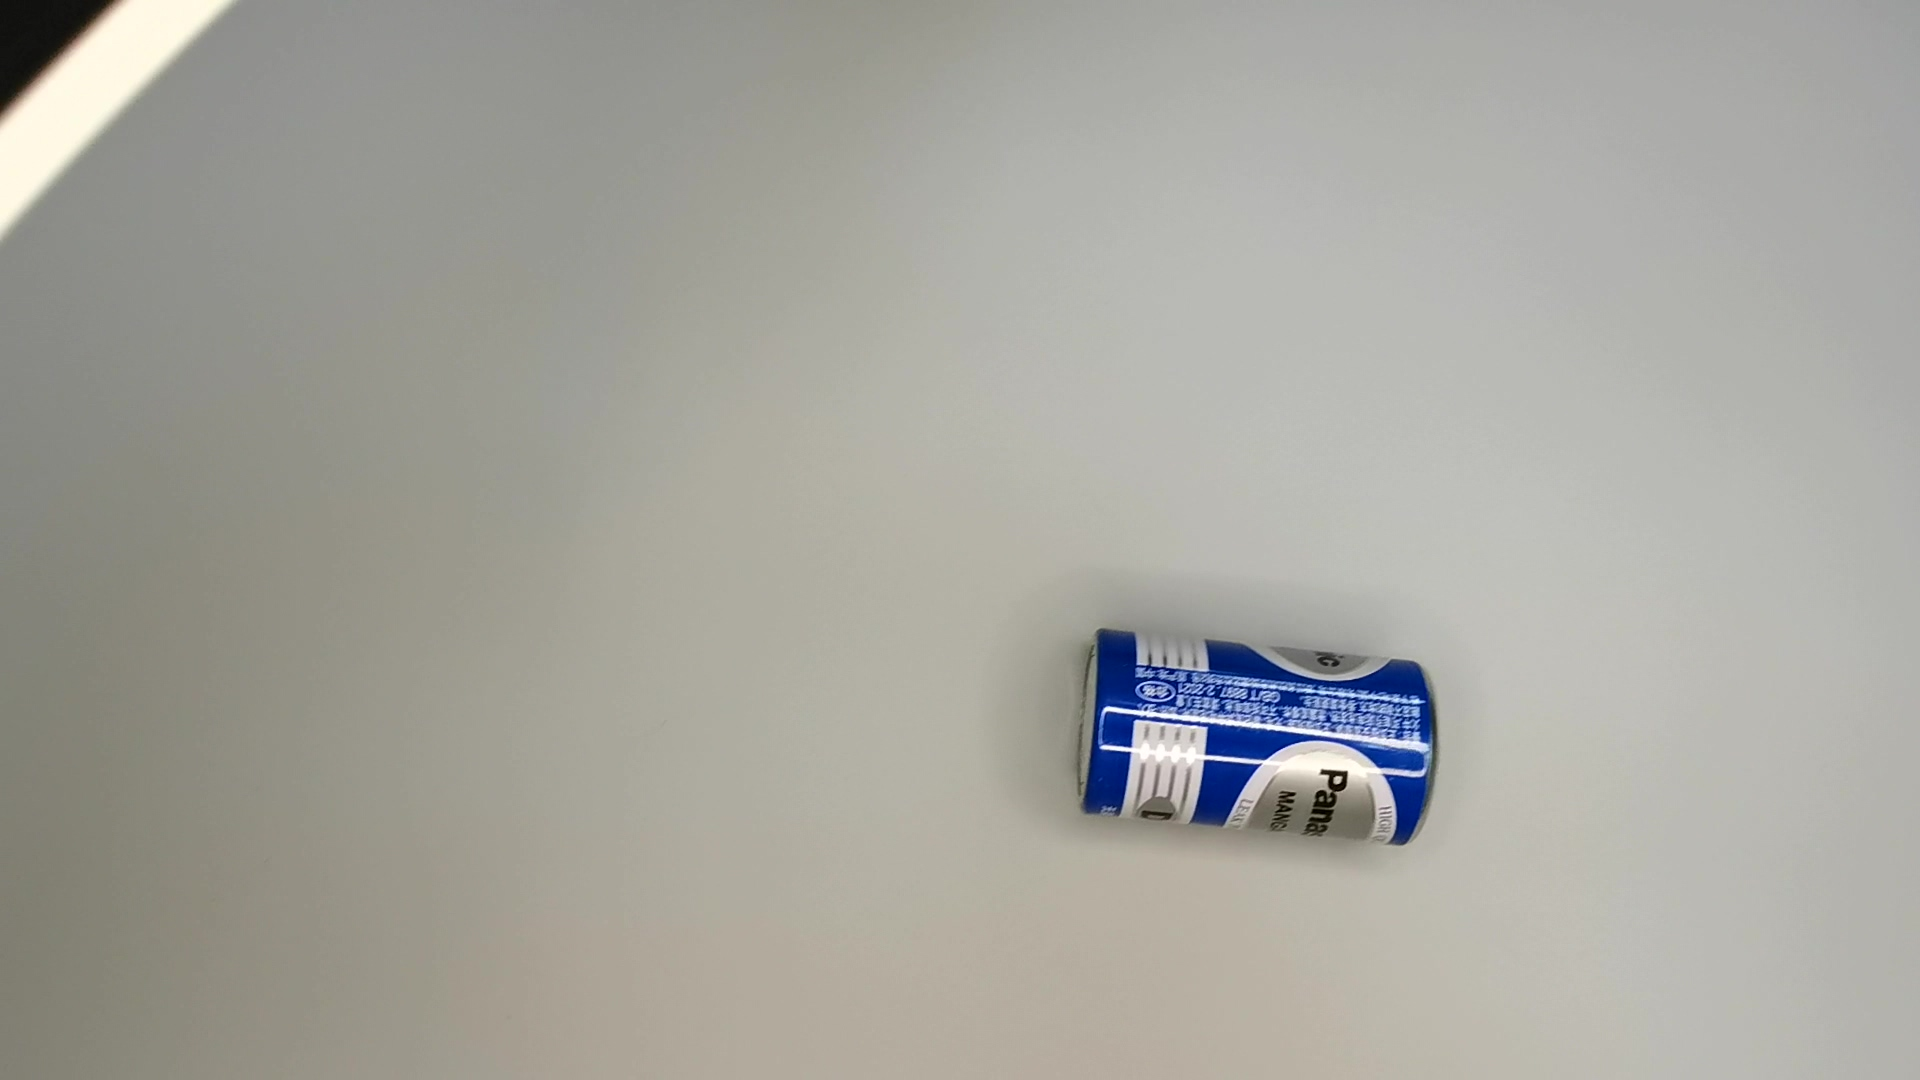battery: (1069, 622, 1445, 851)
